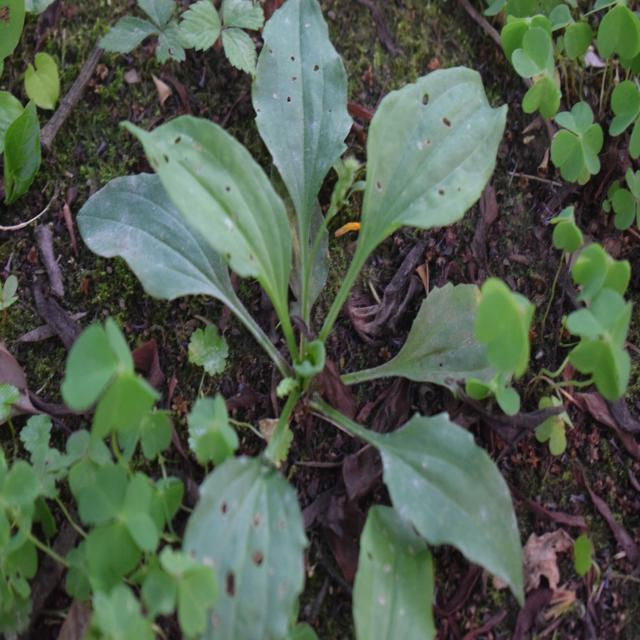plantain: (112, 6, 534, 568)
